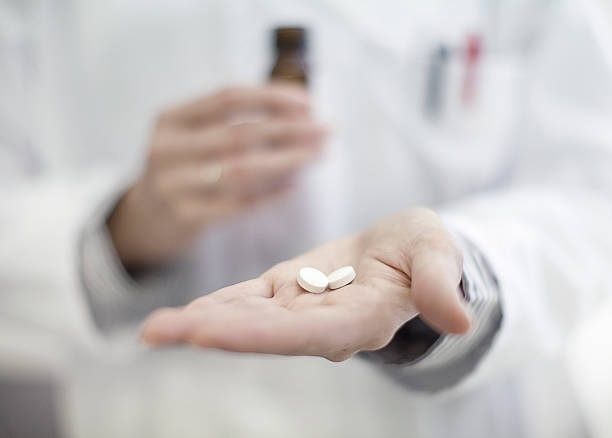pills: (298, 266, 330, 298), (328, 268, 355, 295)
